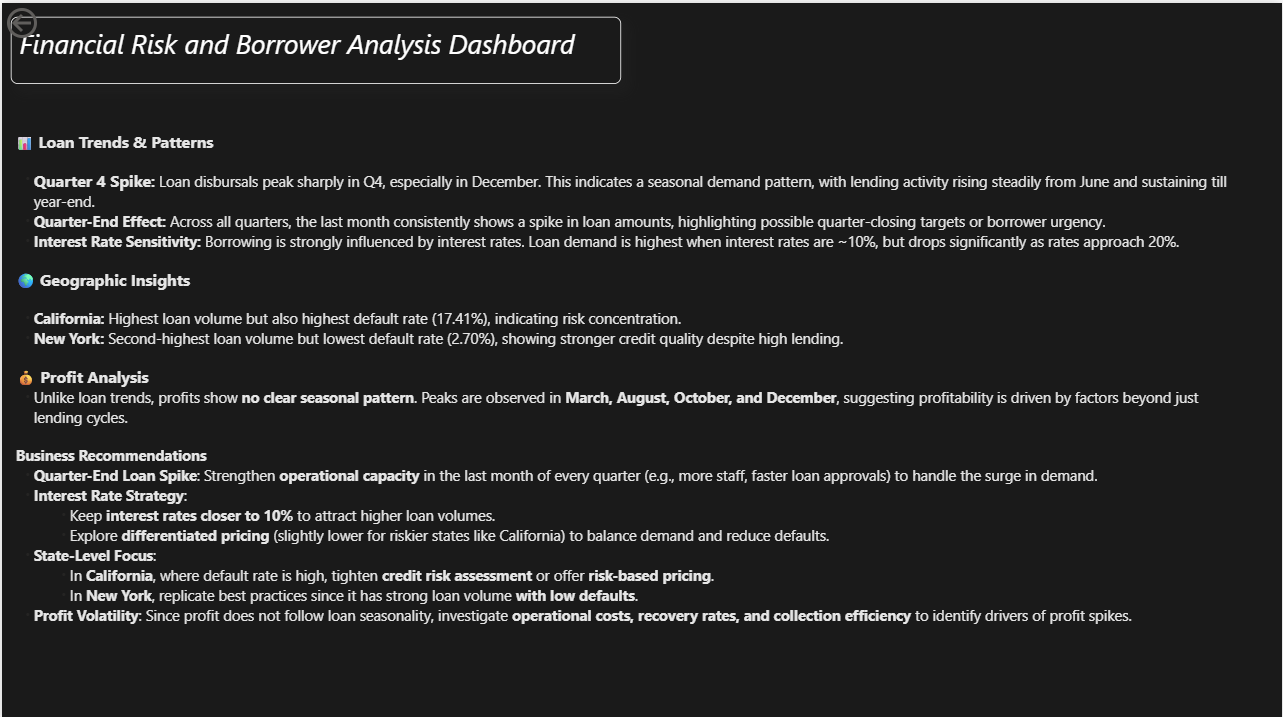

Layout of this report page (visuals, bound fields, positions):
{"tool":"powerbi","page":{"name":"Insight-1","canvas":[1280,720],"ordinal":8},"visuals":[{"type":"textbox","box":[8.8,13.8,610,67.5],"z":0},{"type":"actionButton","box":[0,0,100,40],"z":1000},{"type":"textbox","box":[8.7,105.5,1240,614.4],"z":2000}]}

Visuals, with their boxes in screenshot pixels (x1, y1, x2, y2), scaled from the page's 1280x720 canvas onto the 1283x717 screenshot:
textbox: [9, 14, 620, 81]
actionButton: [0, 0, 100, 40]
textbox: [9, 105, 1252, 716]
